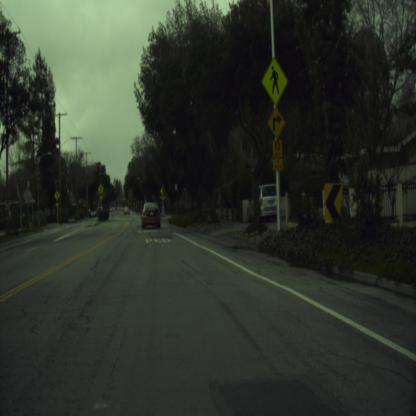Red: (128, 200, 130, 206), (124, 197, 126, 200)
